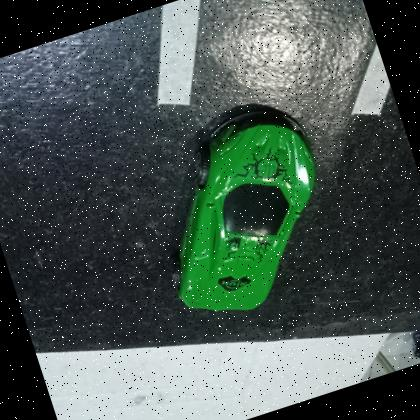Car: (177, 105, 317, 310)
